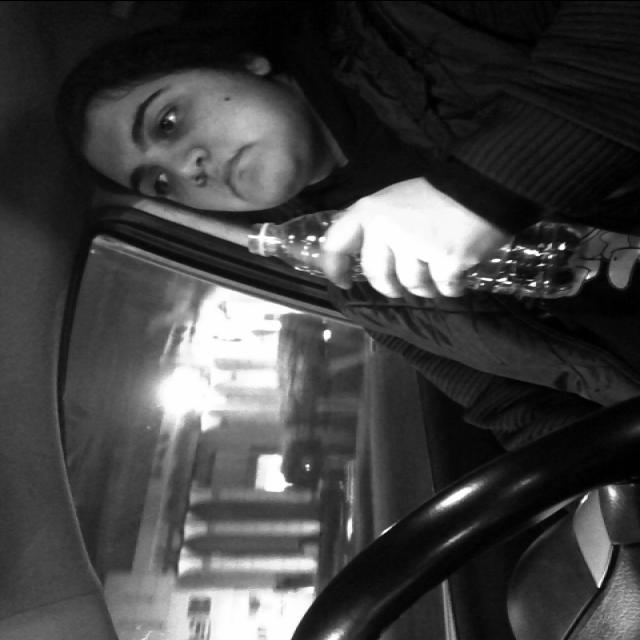drinking: (248, 202, 578, 300)
